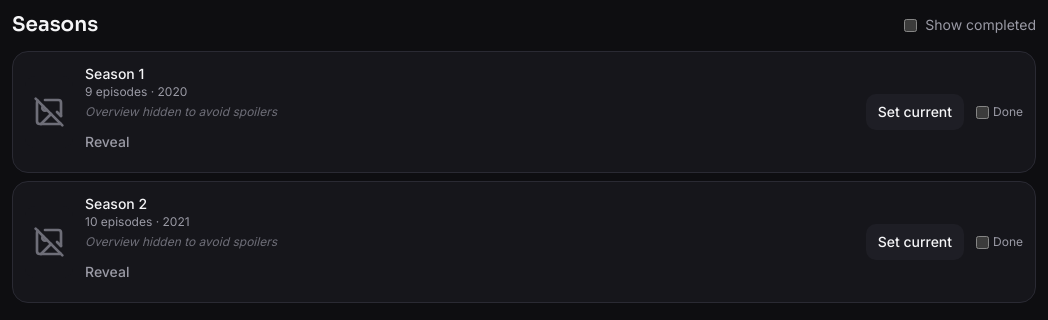
TvSeasonsPanel › keeps spoiler overviews out of the DOM (hidden from assistive tech) until revealed
The width and height of the screenshot is (1048, 320).
Expected: the text "S1 secrets" is not shown
Expected: the text "Overview hidden to avoid spoilers" is shown 2 times, [85,104,277,119]; [85,234,277,249]
Click the button "Reveal" below "· 2020".
click(107, 142)  # box [85,124,130,160]
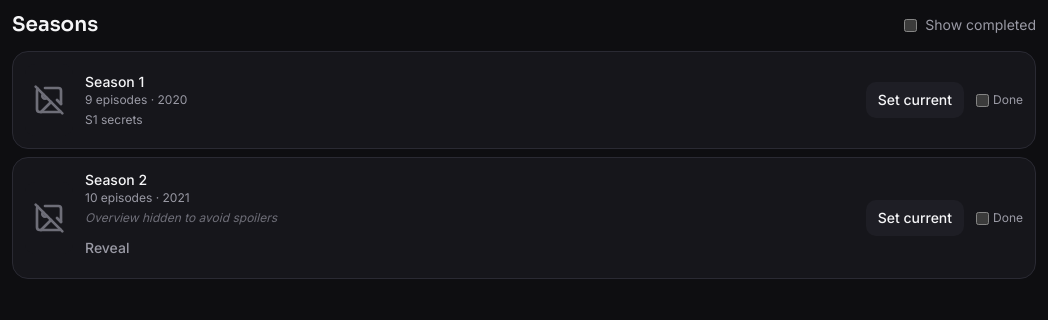
Now the text "S1 secrets" is shown, box [85,112,143,127]
Now the number of buttons "Reveal" is 1, box [85,230,130,266]
